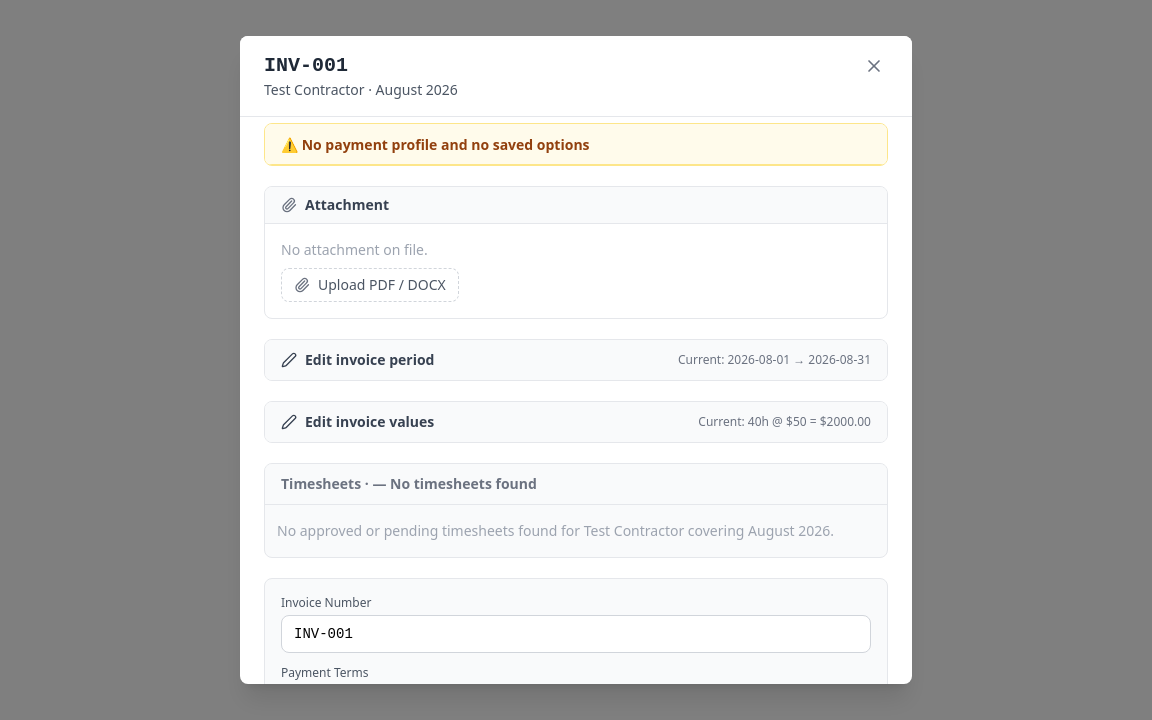
it: InvoiceDetailModal — I7 › period edit save resets form state
(page scrolled)
Step 1. Click the button "Edit invoice period Current: 2026-08-01 → 2026-08-31" → point(370, 360), box [265,340,887,380]
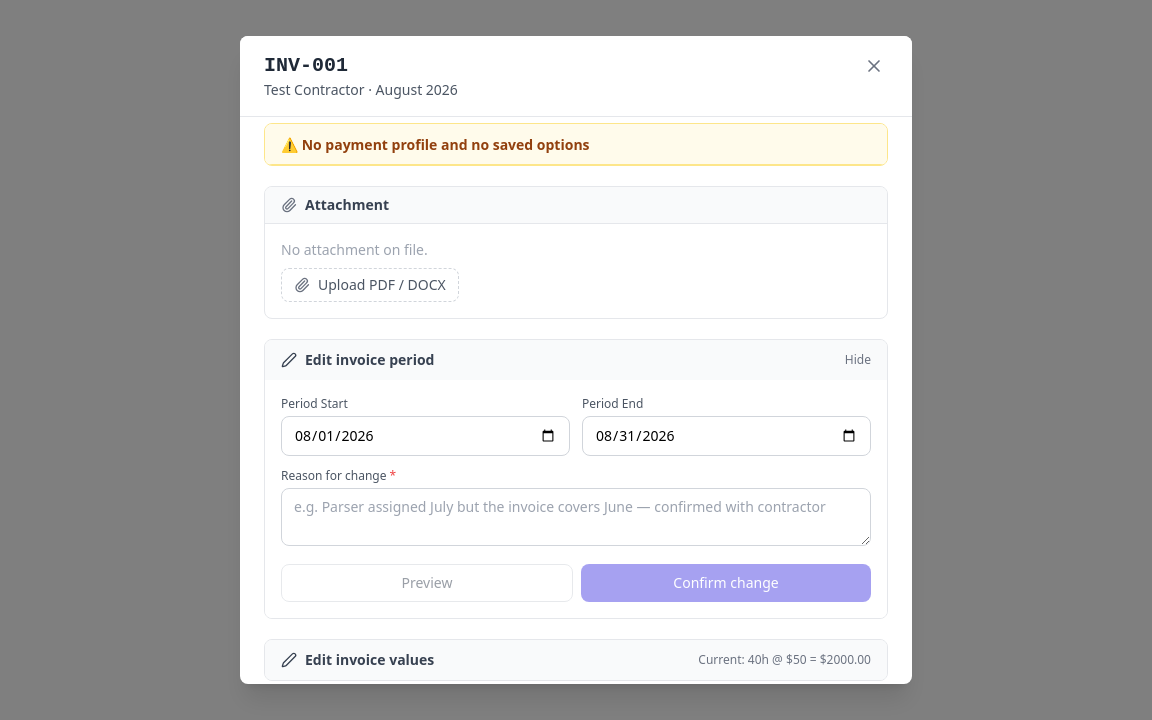
Step 2. Type "2026-09-30" into the date field showing "2026-08-31" below "Period End" → point(726, 436), box [582,416,871,456]
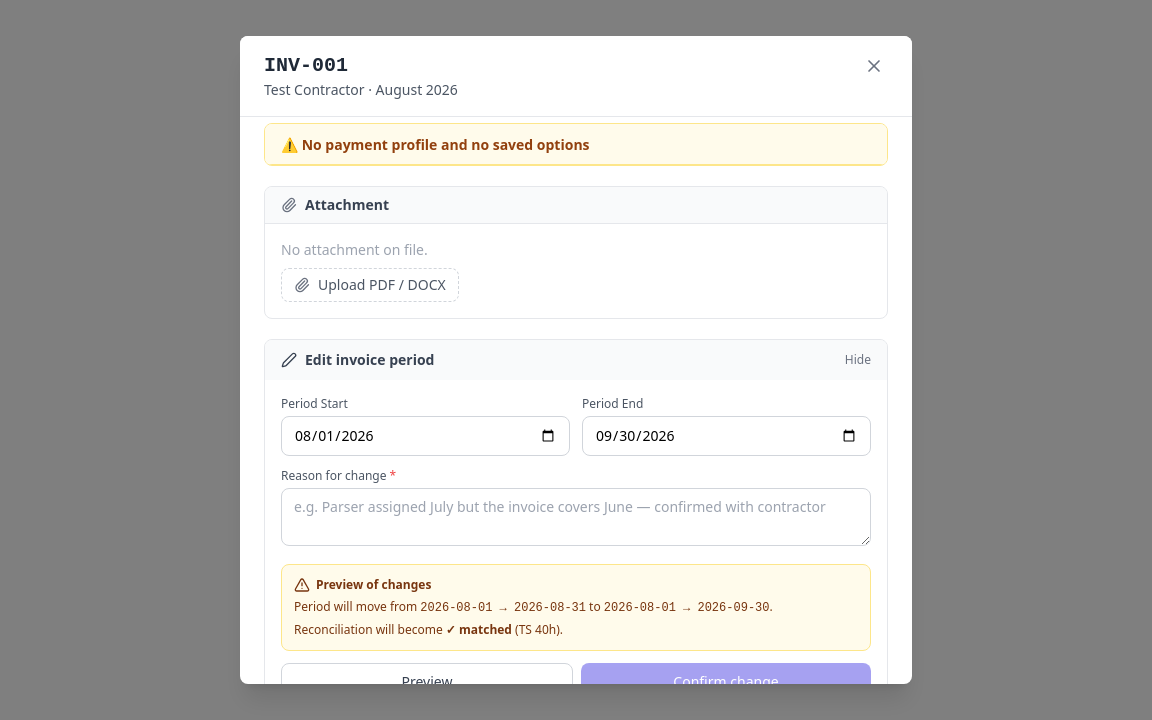
Step 3. Replace the text in the text box with placeholder "Parser assigned" with "test reason" → point(576, 517), box [281,488,871,546]
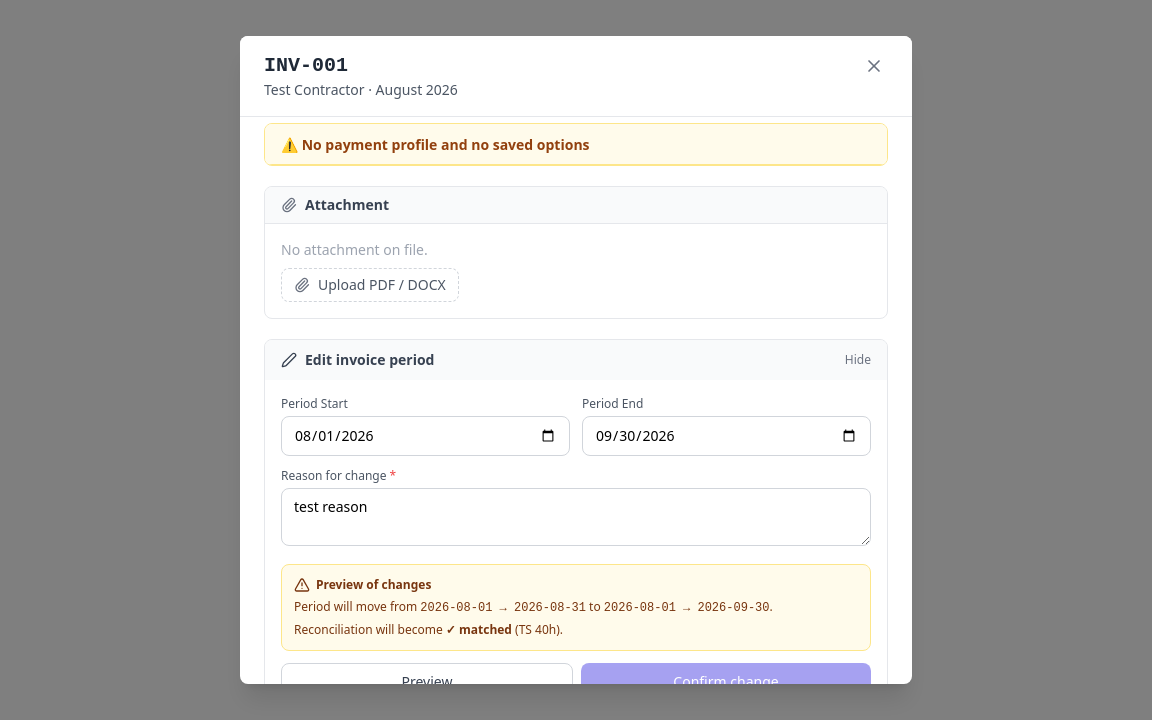
Step 4. Click the button "Preview" → point(427, 682), box [281,663,573,701]
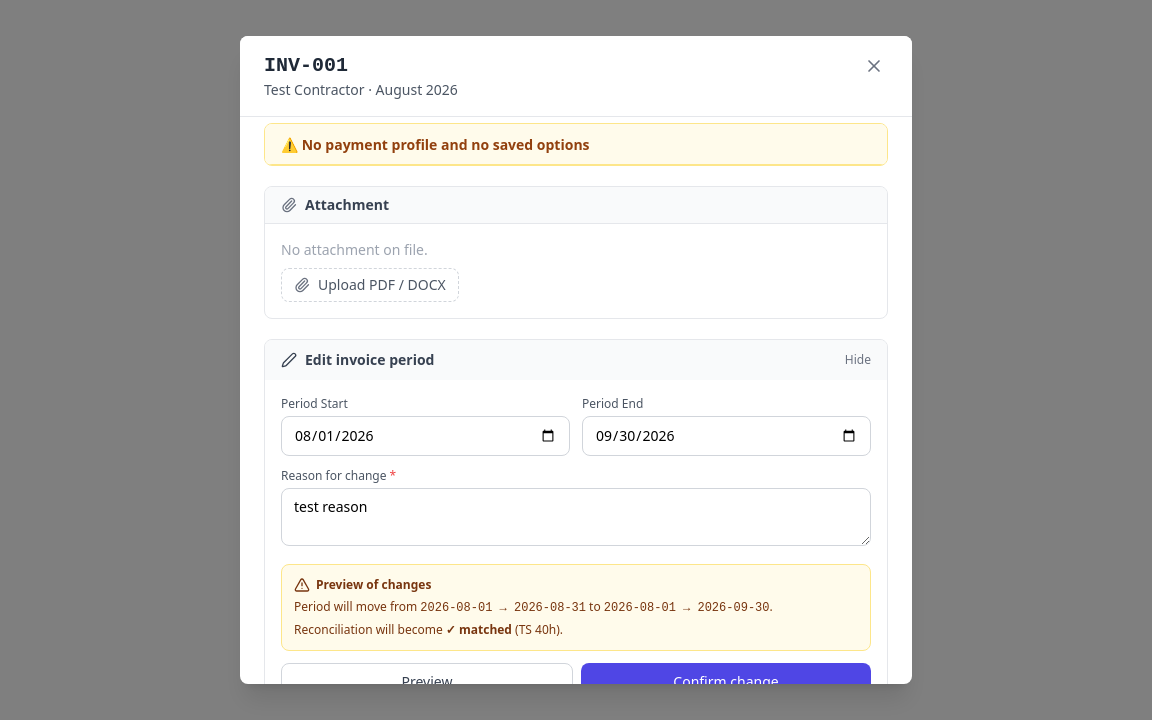
Step 5. Click the button "Confirm change" → point(726, 682), box [581,663,871,701]
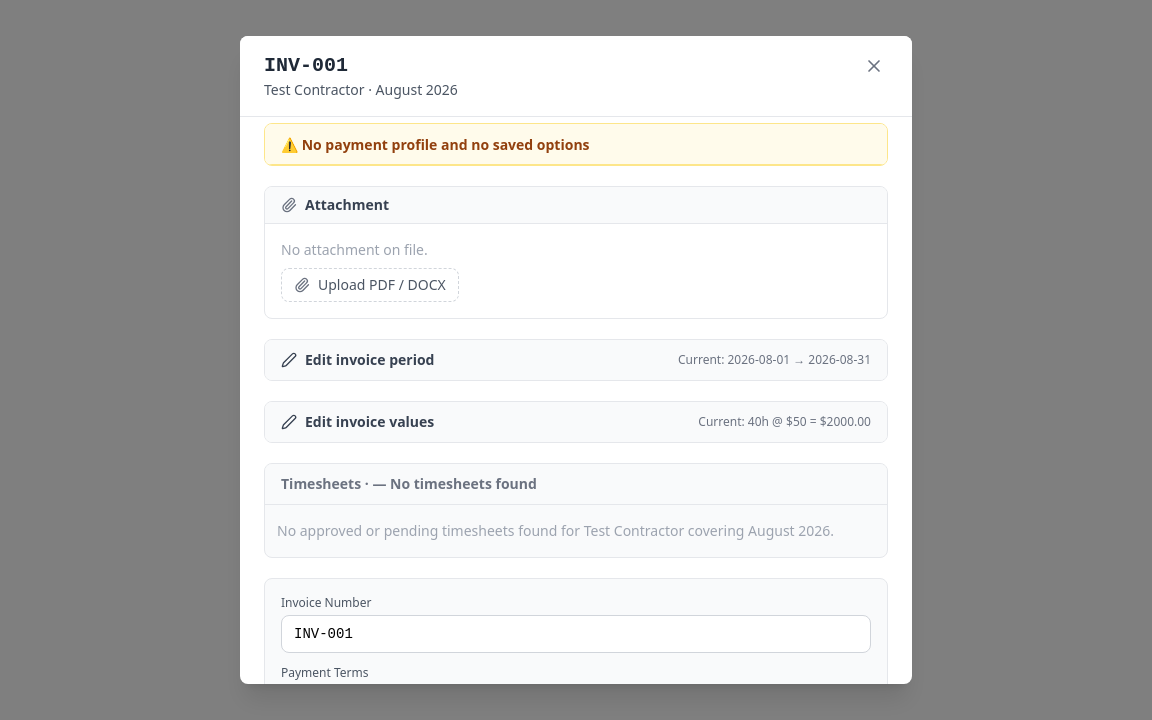
expect the button "Confirm change" is gone: met
